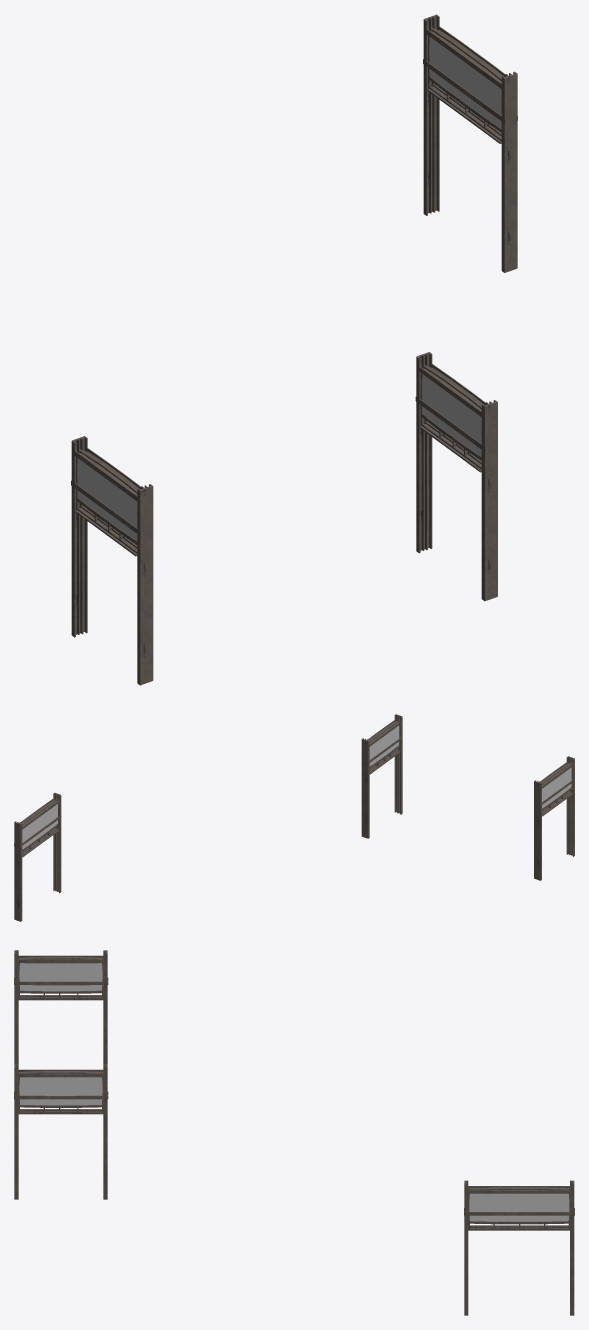
File: Corridor_00_10.fbx
The picture shows the model from 3 angles, top to bottom: view 1: azimuth 30°, elevation 25°; view 2: azimuth 150°, elevation 25°; view 3: azimuth 270°, elevation 25°; orthographic projection. The views are drawn at different scales.
Parts seen in each view (by area): view 1: Corridor_00_10, Corridor_00_02.003; view 2: Corridor_00_10, Corridor_00_02.003; view 3: Corridor_00_10, Corridor_00_02.003.
Part boxes in pixels (x1,y1,x2,y2): Corridor_00_10: (71,14,517,685); Corridor_00_02.003: (77,37,501,540); Corridor_00_10: (14,714,574,921); Corridor_00_02.003: (22,726,571,849); Corridor_00_10: (14,950,574,1315); Corridor_00_02.003: (19,963,569,1221).
Bounding box in the file's own units: 2041 × 539 × 2058.
